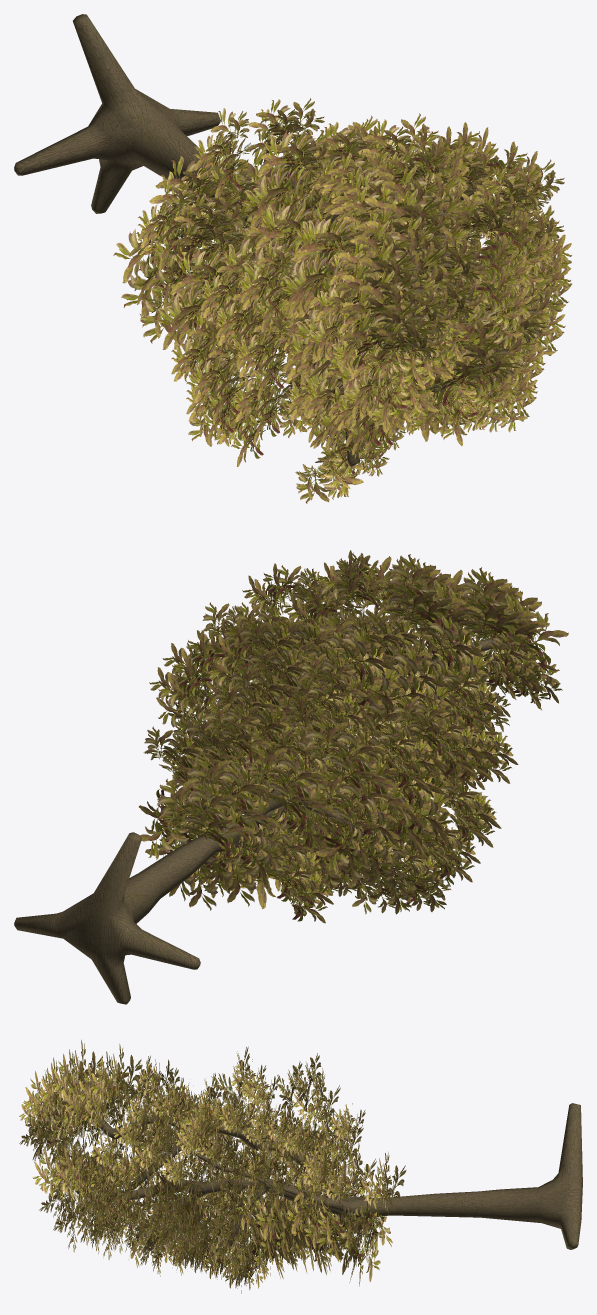
File: tree_Brian2.obj
3 views of the same model, one above another, from view 1: azimuth 30°, elevation 25°; view 2: azimuth 150°, elevation 25°; view 3: azimuth 270°, elevation 25° (orthographic). The views are drawn at different scales.
Parts seen in each view (by area): view 1: Cube.001; view 2: Cube.001; view 3: Cube.001.
Boxes of the visible parts, x1,y1,x2,y2 form: Cube.001: (14,14,571,503); Cube.001: (14,550,568,1004); Cube.001: (19,1040,582,1293).
Bounding box in the file's own units: 542 × 506 × 1000.
